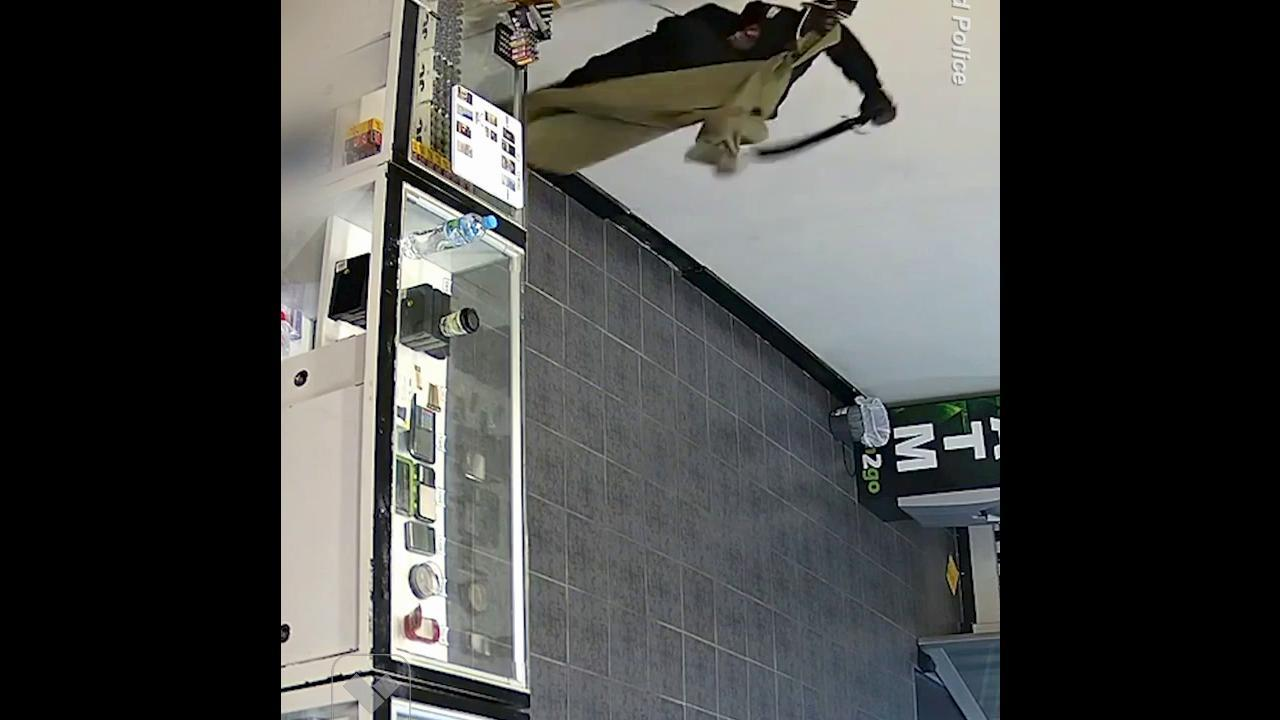melee: (747, 104, 891, 170)
